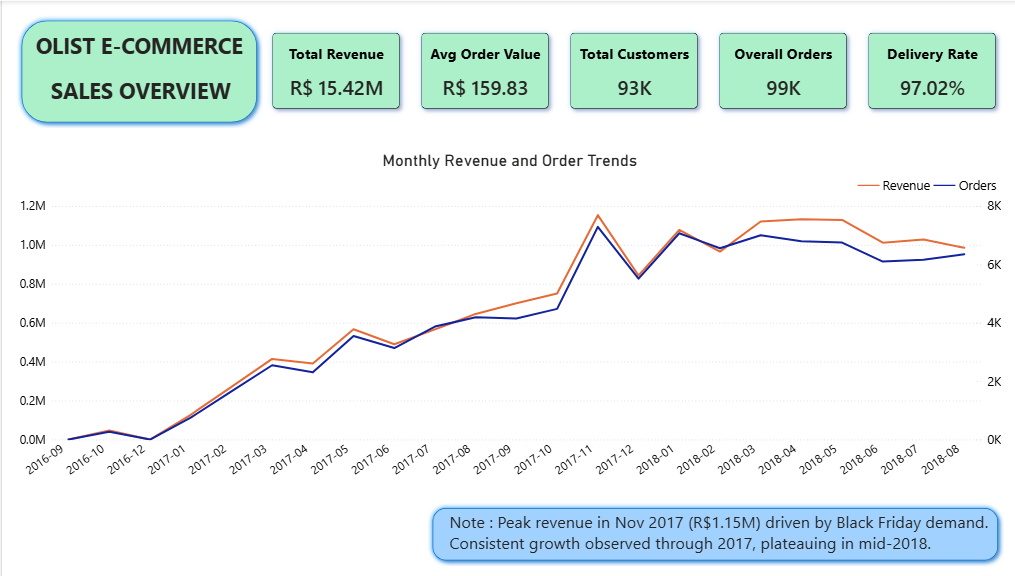

The page's visual inventory and layout, read from the dashboard file:
{"tool":"powerbi","page":{"name":"Sales Overview","canvas":[1500,850],"ordinal":0},"visuals":[{"type":"cardVisual","fields":{"Data":["Sum(Sales Overview.total_revenue)","Sum(Sales Overview.avg_order_value)","Sum(Sales Overview.total_customers)","Sum(Sales Overview.total_orders_registered)","Sum(Sales Overview.delivery_rate)"]},"box":[369.8,17.7,1129.4,170.5],"z":0},{"type":"lineChart","title":"Monthly Revenue and Order Trends","fields":{"Category":["Monthly Trends.month"],"Y":["Sum(Monthly Trends.revenue)"],"Y2":["Sum(Monthly Trends.total_orders)"]},"box":[19.9,221.5,1459.4,502.7],"z":1000},{"type":"shape","box":[19.9,19.9,365.4,168.3],"z":2000},{"type":"textbox","box":[11.1,104.1,387.6,66.4],"z":3000},{"type":"textbox","box":[8.9,37.6,387.6,66.4],"z":4000},{"type":"shape","box":[626.7,739.7,852.6,95.2],"z":5000},{"type":"textbox","box":[655.5,746.3,823.8,88.6],"z":6000}]}

Visuals, with their boxes in screenshot pixels (x1, y1, x2, y2), scaled from the page's 1500x850 canvas onto the 1015x576 screenshot:
cardVisual - Sum(Sales Overview.total_revenue) x Sum(Sales Overview.avg_order_value): (250,12,1014,128)
"Monthly Revenue and Order Trends" lineChart: (13,150,1001,491)
shape: (13,13,261,128)
textbox: (8,71,270,116)
textbox: (6,25,268,70)
shape: (424,501,1001,566)
textbox: (444,506,1001,566)
